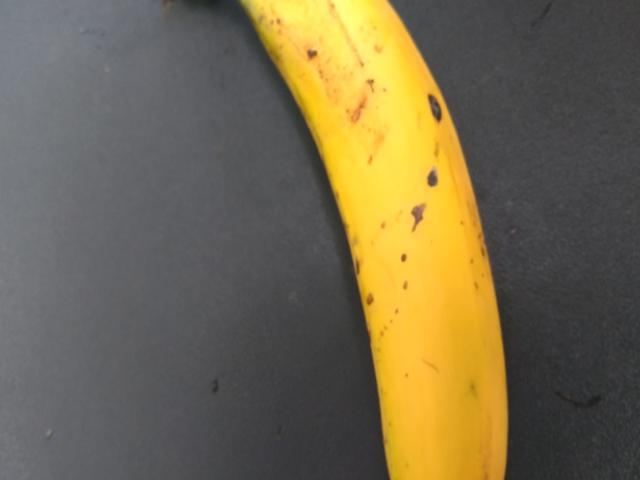ripe: (243, 6, 535, 479)
